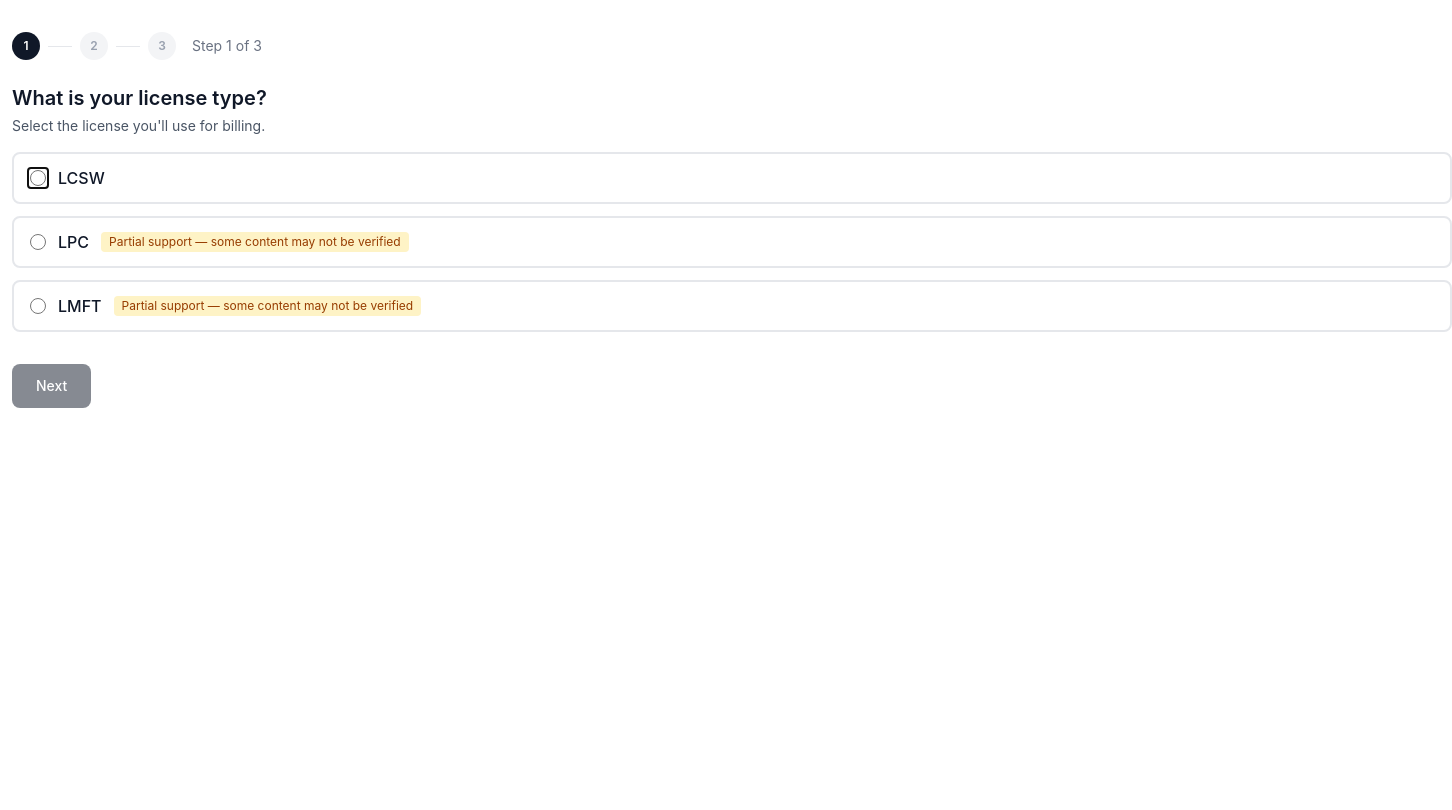
Test: IntakeForm › advances to step 2 after selecting license and clicking Next
The image size is (1452, 810).
Click the radio button labelled "LCSW" at (38, 178), box [30,170,46,186]
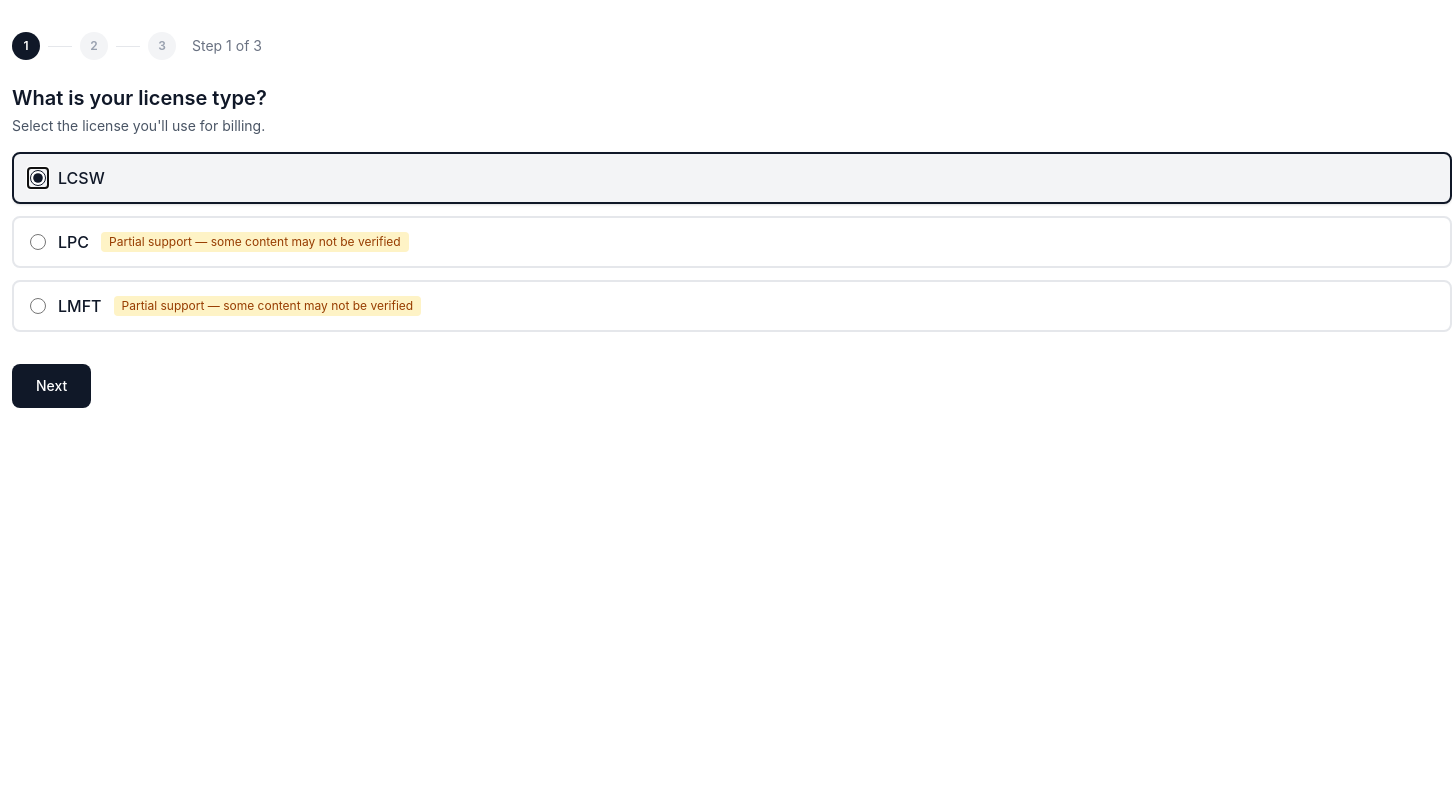
Click the button "Next" at (52, 386), box [12,364,91,408]
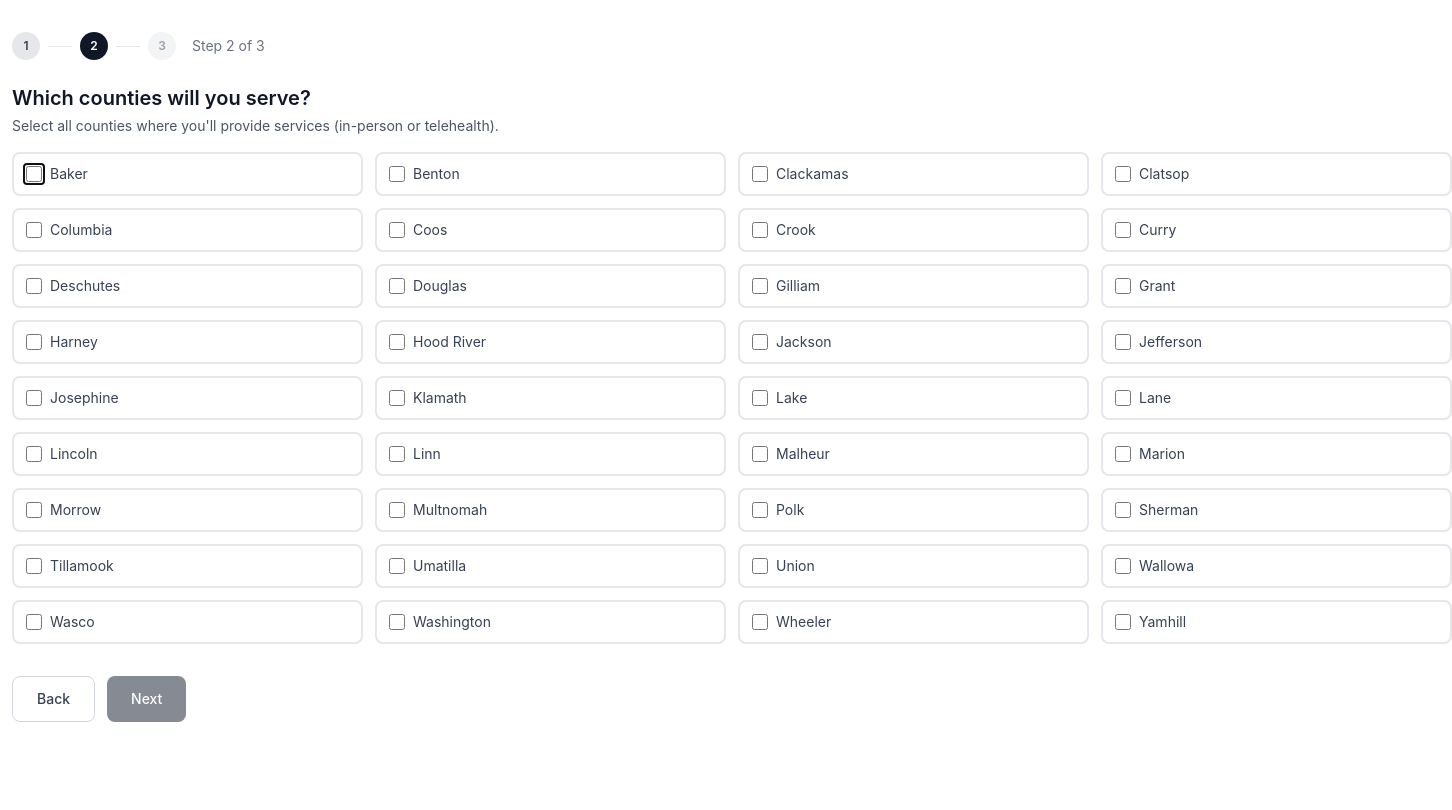
Expected: the text "Which counties will you serve?" is shown, [12,84,311,112]
Expected: the text "Step 2 of 3" is shown, [192,36,265,56]
